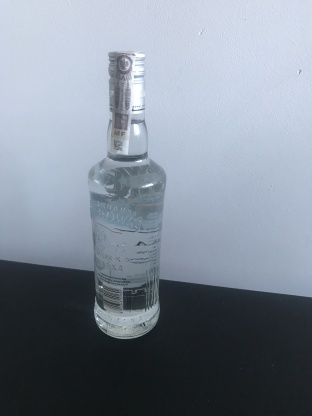nakretka: (104, 47, 148, 114)
